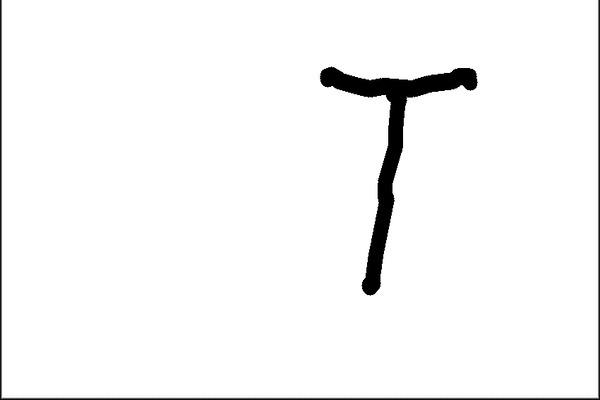T: (308, 47, 482, 300)
